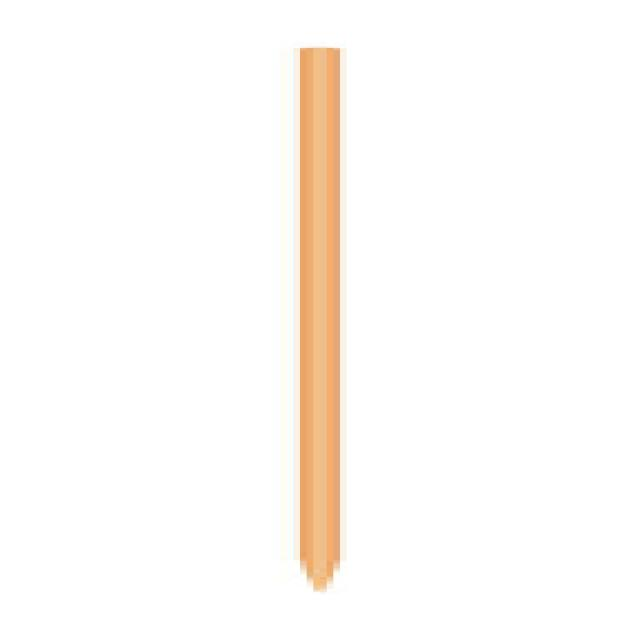stick: (297, 48, 344, 591)
